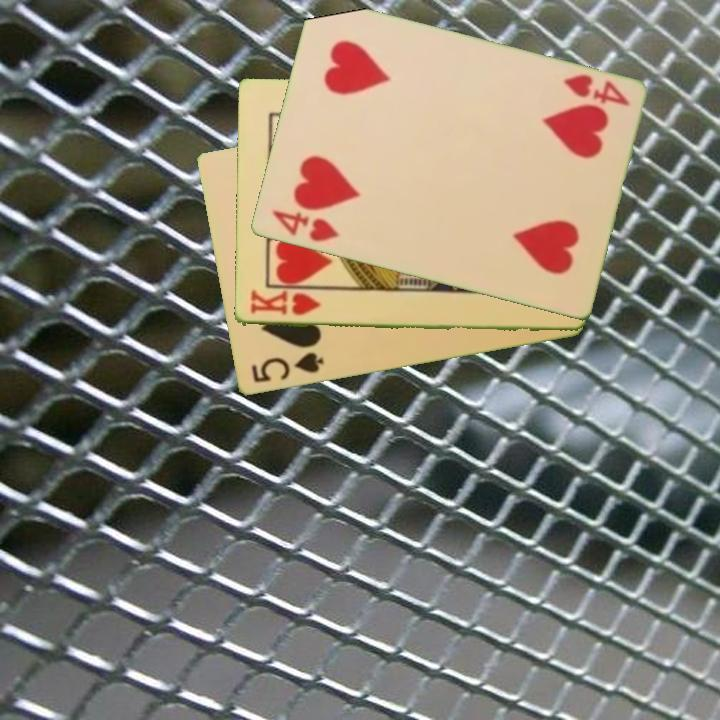4h: (559, 71, 633, 110), (268, 207, 341, 245)
5s: (247, 349, 327, 386)
Kh: (247, 288, 323, 319)
